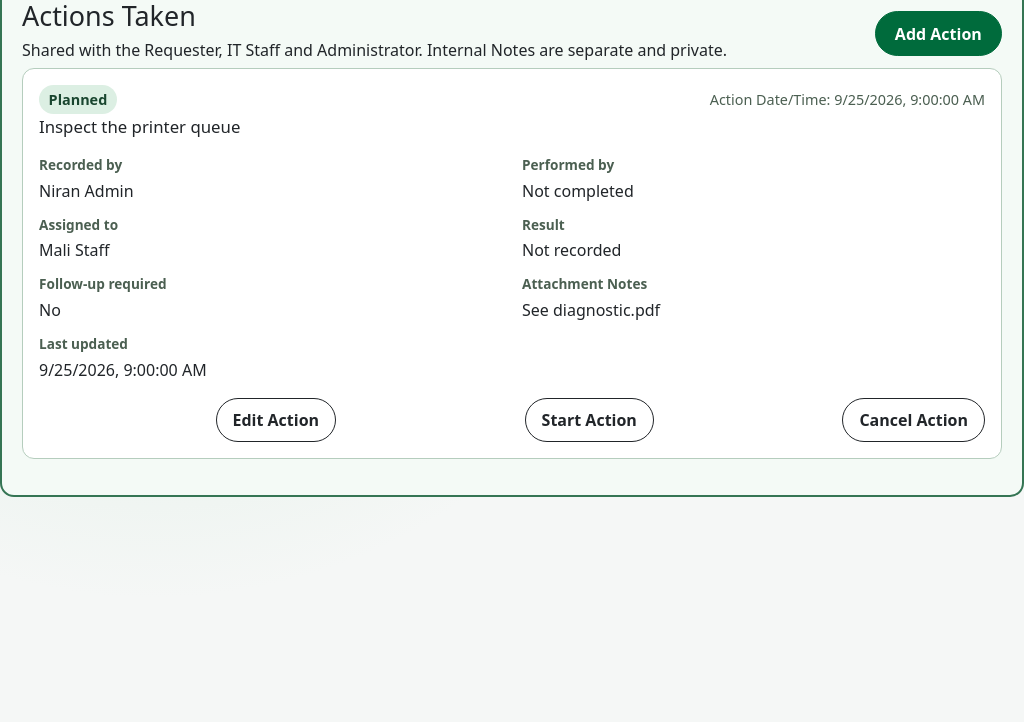
Test: closes a protected draft and removes previously shown records after FORBIDDEN
Expected: the text "Inspect the printer queue" is shown, [39,115,240,138]
Click the button "Edit Action": (276, 420) [216,398,336,442]
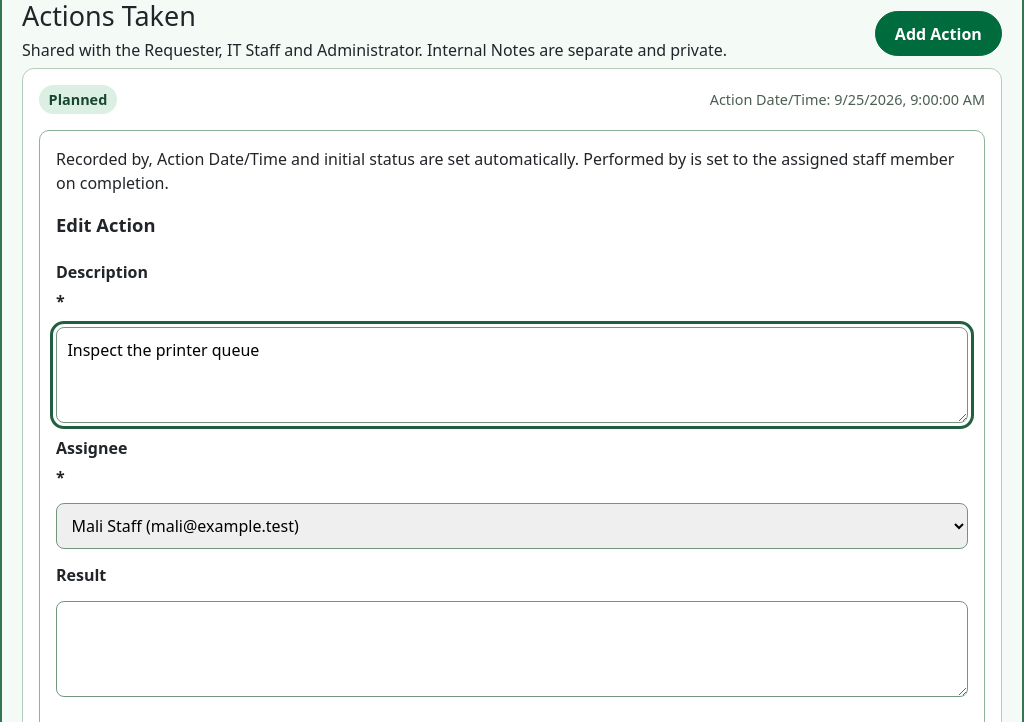
In the text box named "Edit Action Description": (512, 375) [56,327,968,423], type " local draft"
(page scrolled)
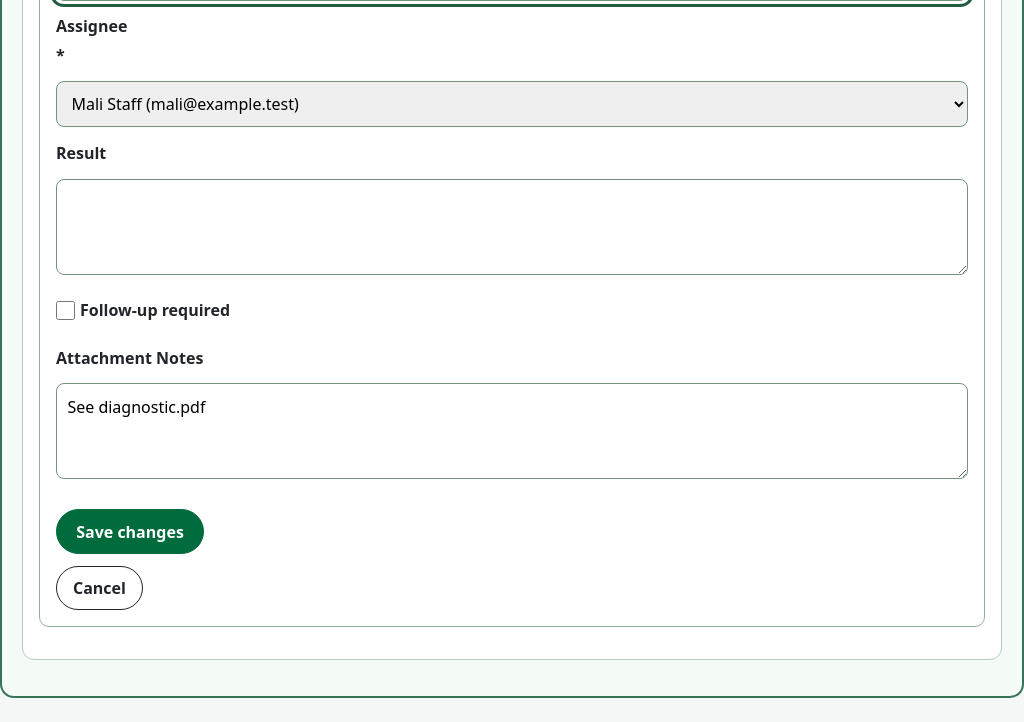
Click the button "Save changes": (130, 532) [56,509,204,554]
(page scrolled)
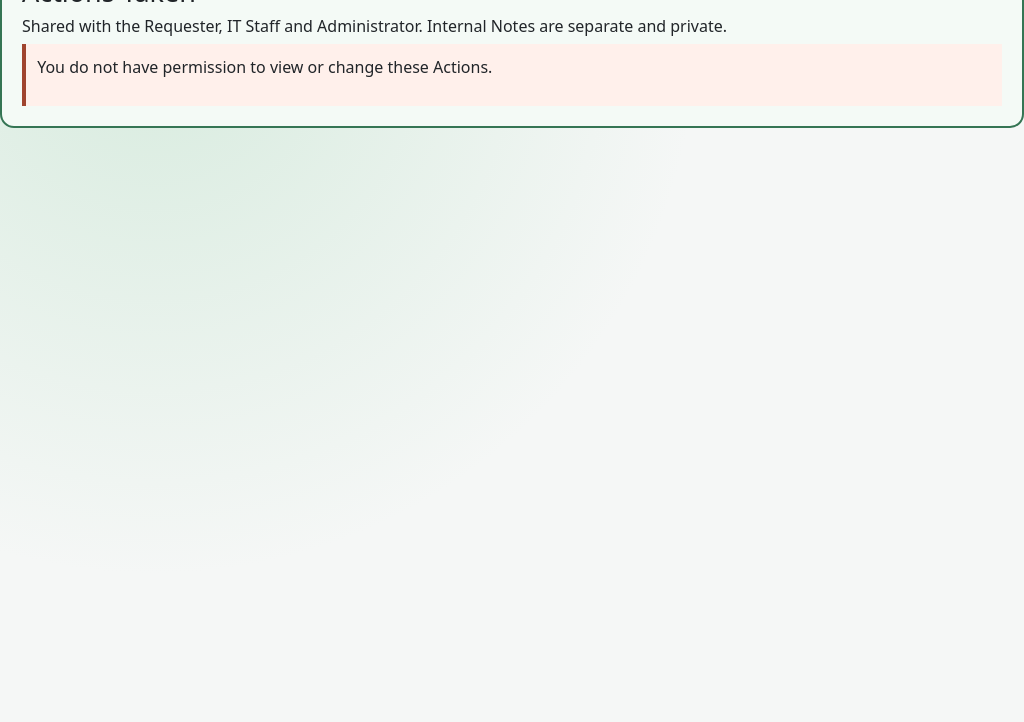
Expected: the text "Inspect the printer queue" is not shown
Now the message reads "You do not have permission to view or change these Actions.", box [37,56,492,78]
Now the button "Save changes" is gone
